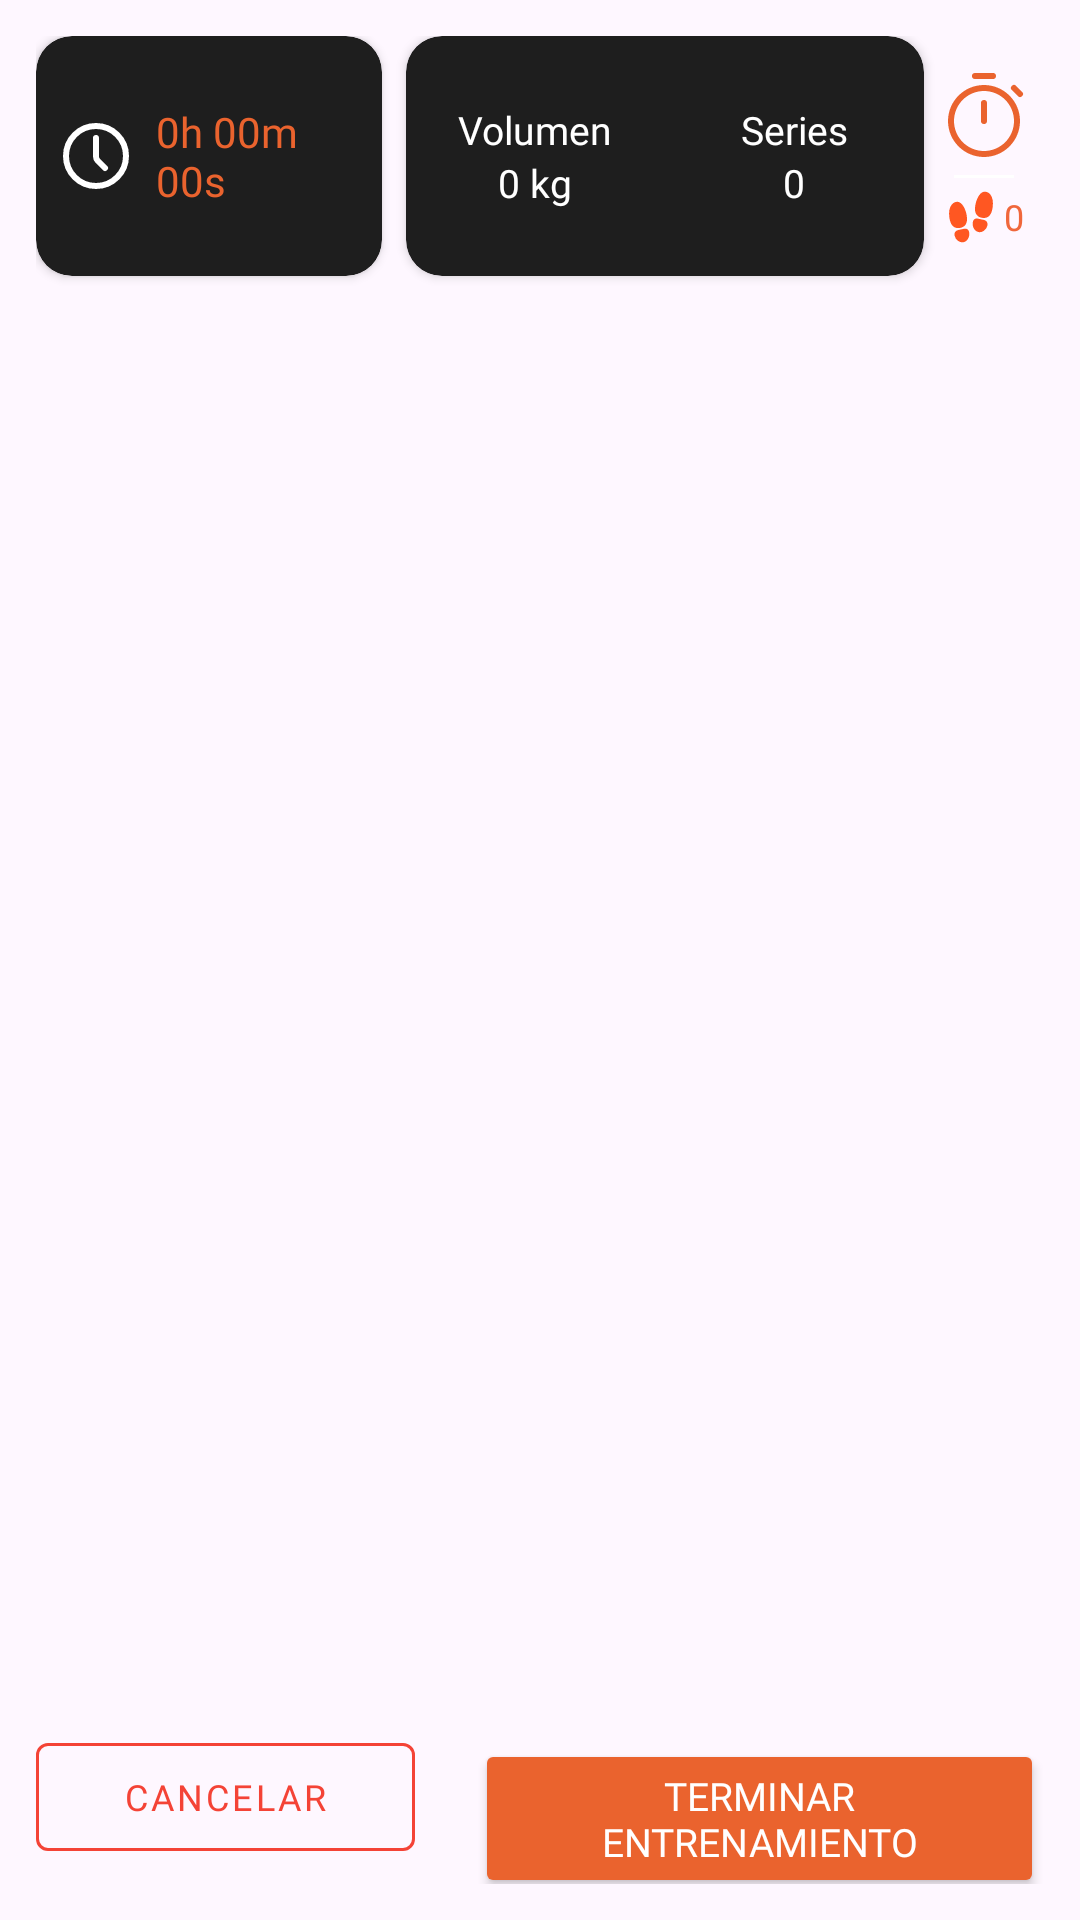

Point at icon controls on the screen. Image size 1080×1920, points as [x,y].
clocks: [96,156]
footsteps: [971,217]
timer: [985,115]
